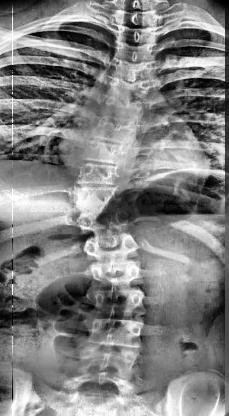Vertebrae: (85, 320, 146, 349), (92, 289, 148, 319), (91, 260, 145, 290), (82, 232, 140, 258), (80, 349, 140, 374), (82, 142, 140, 166), (74, 165, 130, 189), (78, 210, 132, 232), (76, 186, 126, 209), (89, 121, 140, 143), (100, 98, 144, 121), (108, 79, 154, 101), (116, 61, 155, 81), (115, 43, 153, 62), (117, 12, 156, 29), (119, 26, 154, 44)
